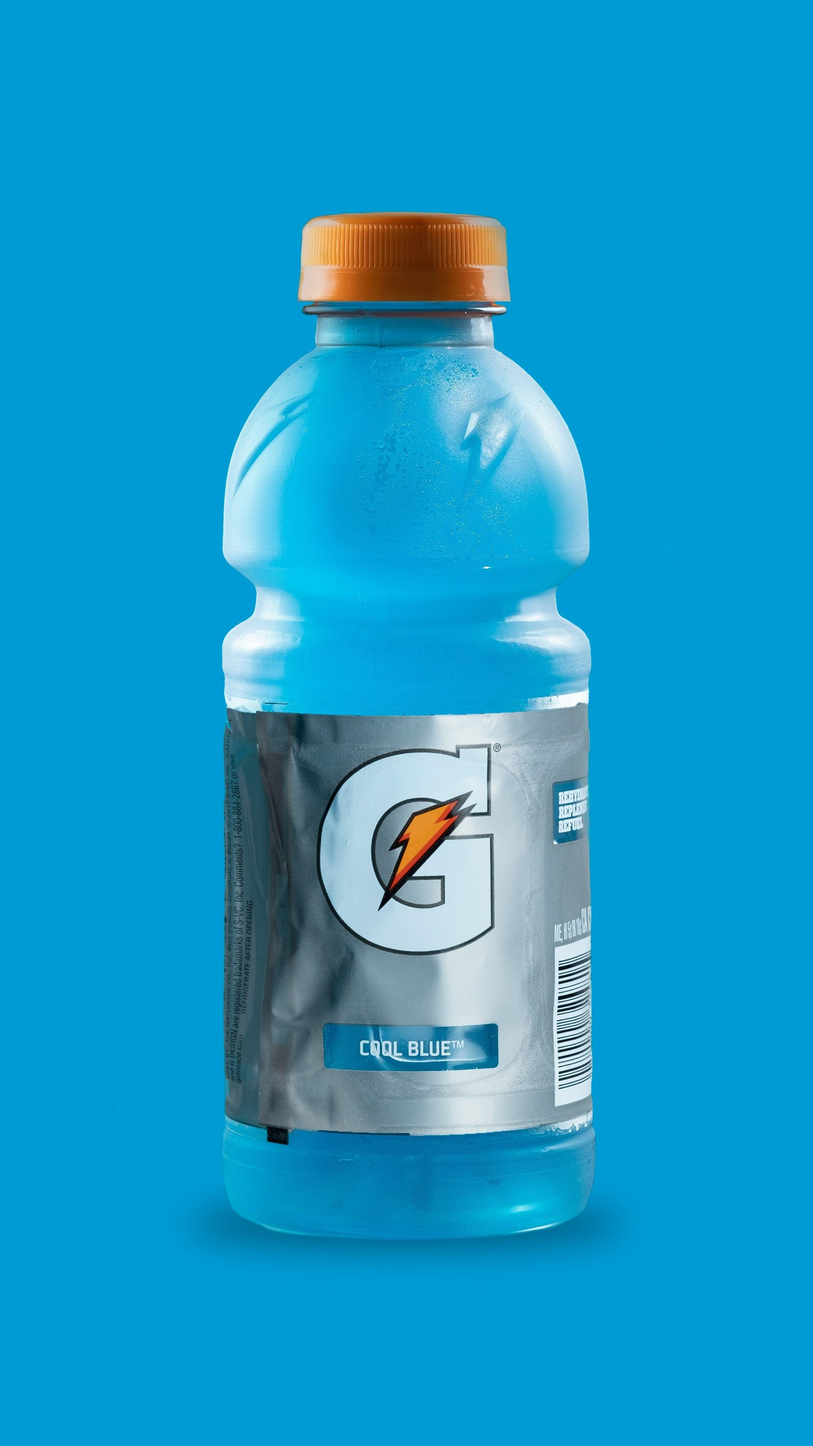Bottle-Detection: (150, 124, 703, 1308)
